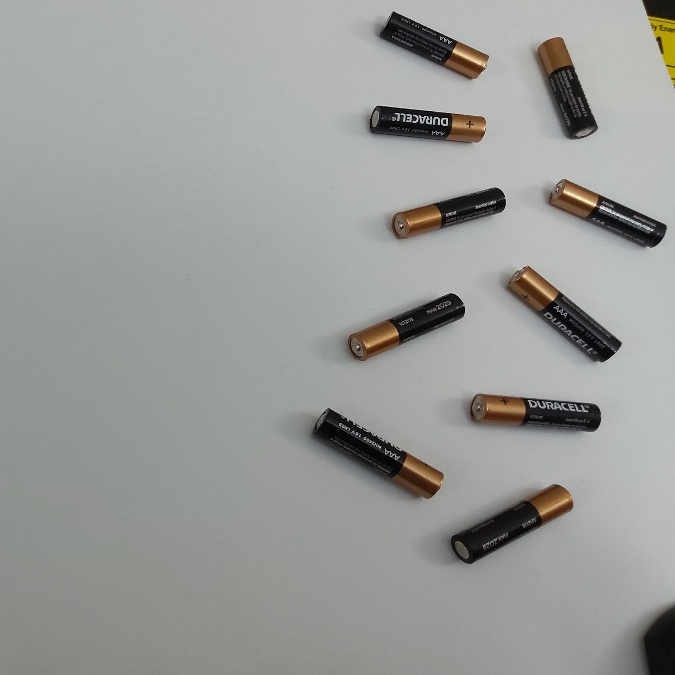battery: (306, 404, 446, 506), (499, 259, 627, 370), (450, 478, 576, 569), (371, 6, 496, 89), (540, 175, 668, 249), (346, 287, 466, 365), (529, 28, 602, 143), (384, 180, 510, 241), (466, 381, 605, 436), (364, 101, 493, 149)
